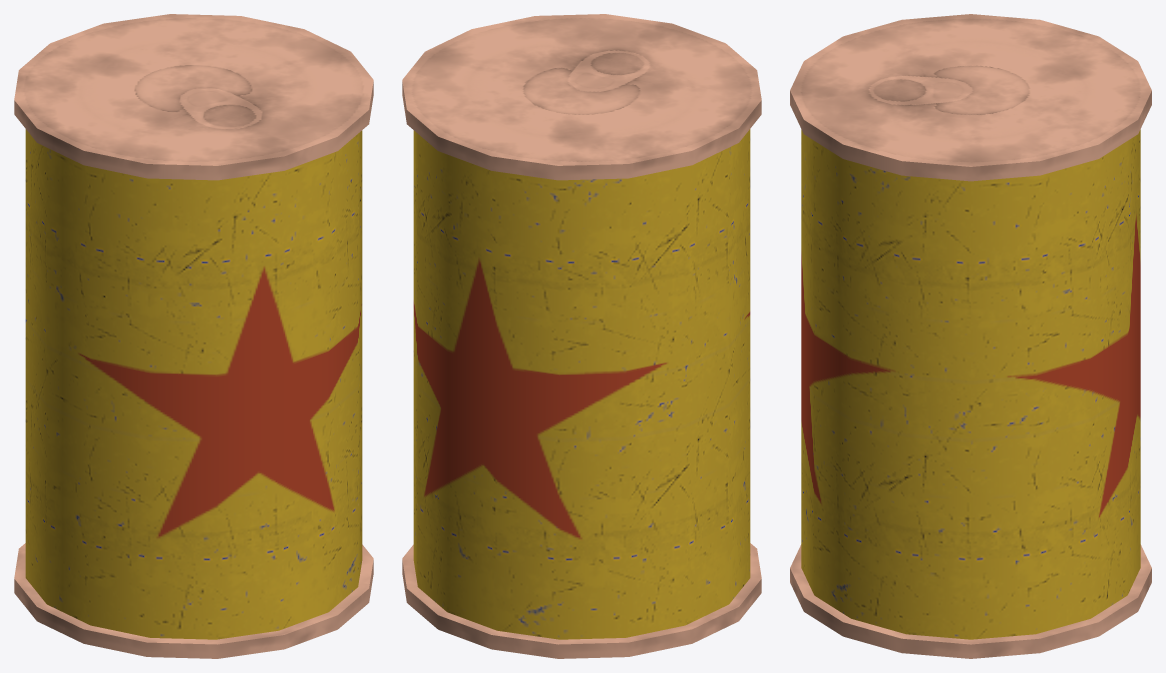
Rendered from AST_GRAPH_Conserve_1_GJ.fbx.
The picture shows the model from 3 angles, left to right: view 1: azimuth 30°, elevation 25°; view 2: azimuth 150°, elevation 25°; view 3: azimuth 270°, elevation 25°; orthographic projection.
Parts seen in each view (by area): view 1: Conserve_1; view 2: Conserve_1; view 3: Conserve_1.
Part boxes in pixels (x1=…): Conserve_1: x1=14, y1=14, x2=373, y2=658; Conserve_1: x1=402, y1=14, x2=761, y2=658; Conserve_1: x1=790, y1=14, x2=1151, y2=658.
Size of the model in its own units: 10 by 15 by 10.
